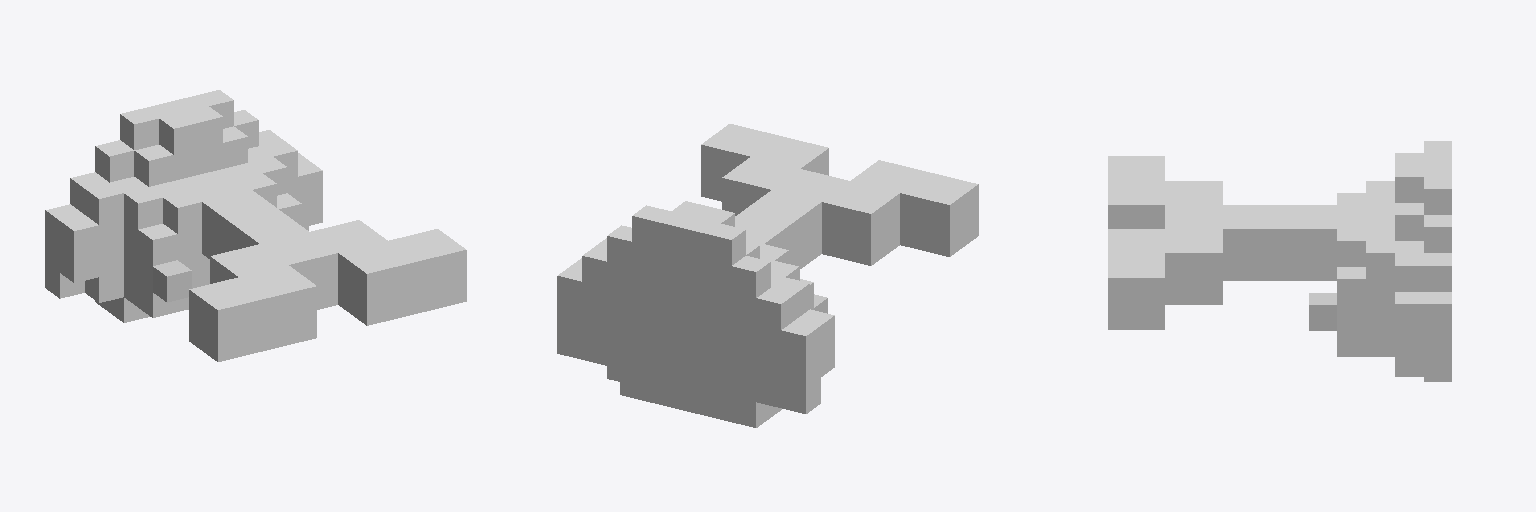
3 renders of one model, left to right at view 1: azimuth 30°, elevation 25°; view 2: azimuth 150°, elevation 25°; view 3: azimuth 270°, elevation 25°, orthographic.
Parts seen in each view (by area): view 1: object 1; view 2: object 1; view 3: object 1.
Boxes of the visible parts, x1=… form: object 1: x1=45, y1=90, x2=466, y2=361; object 1: x1=557, y1=124, x2=978, y2=427; object 1: x1=1108, y1=141, x2=1451, y2=381.
Size of the model in its own units: 2 by 1.4 by 2.4.
1 materials, 1 textured.